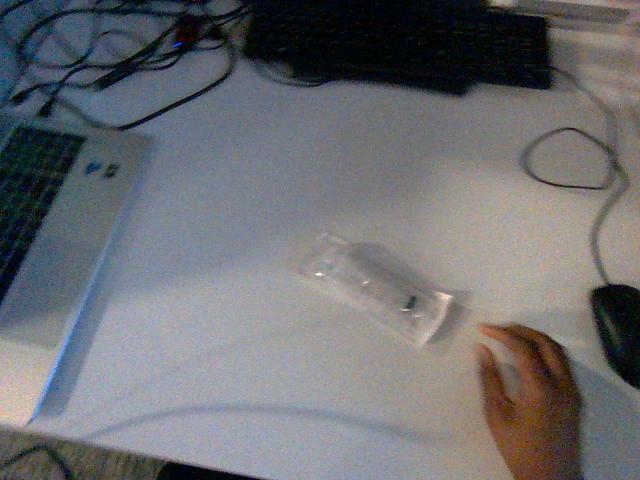syringe: (299, 233, 452, 345)
